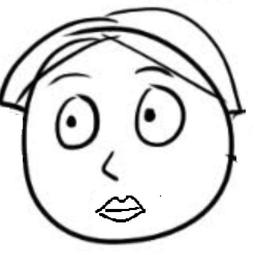cupid_mouth: (91, 192, 155, 225)
eye: (130, 81, 188, 148), (49, 91, 101, 154)
eyebrow: (129, 66, 177, 80), (55, 67, 90, 84)
pointy_nose: (96, 147, 125, 188)
